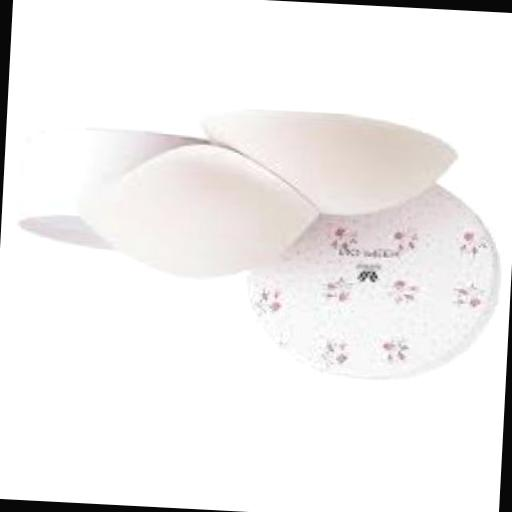paper: (241, 177, 504, 388), (68, 142, 322, 286), (194, 108, 460, 225), (13, 131, 206, 254)
